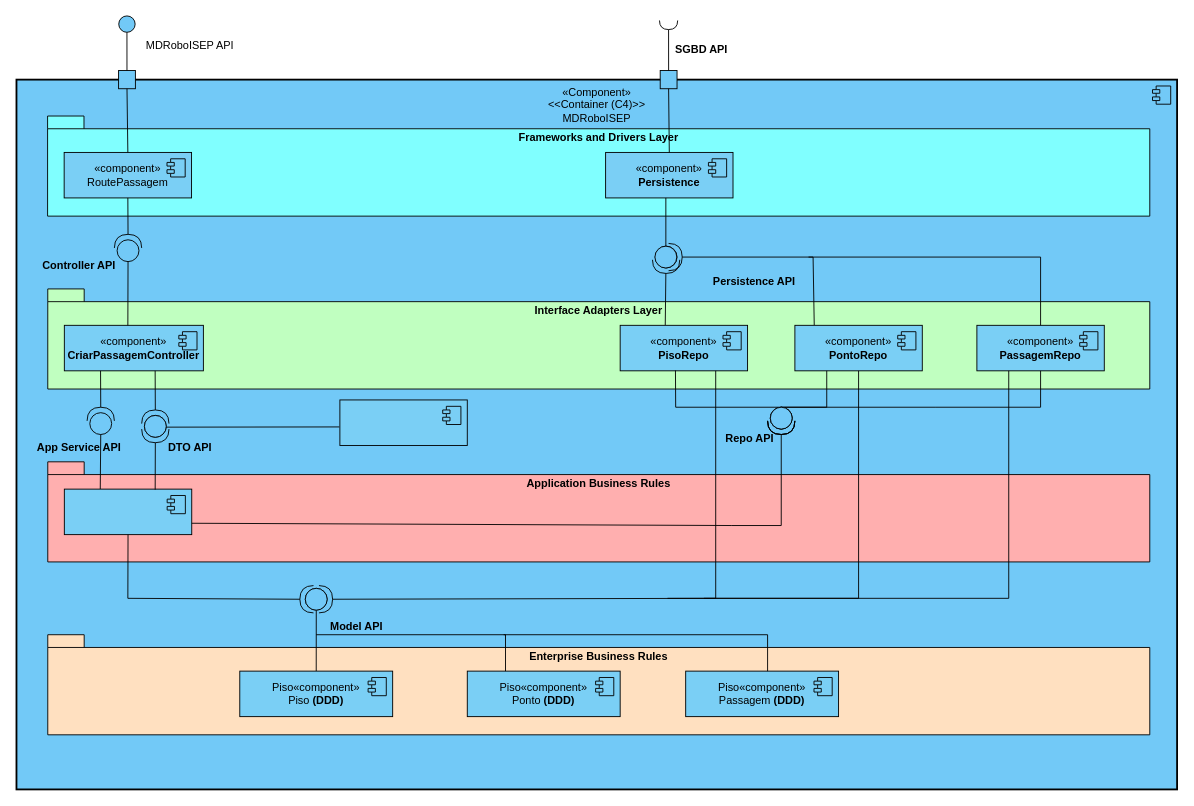
This 1194x806 diagram has some shape labels left out. Here are the shapes that lost their labels. From the top down, the centre of each, then its label:
At pixel 403 422: "«component» PassagemDTO".
At pixel 127 511: "«component» CriarPassagemService".
